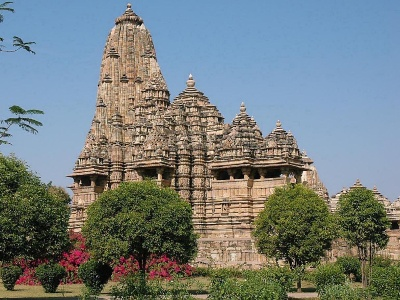amalaka: (110, 12, 152, 29)
gopuram: (88, 24, 170, 137)
mandapa: (209, 154, 318, 185), (67, 162, 115, 191)
